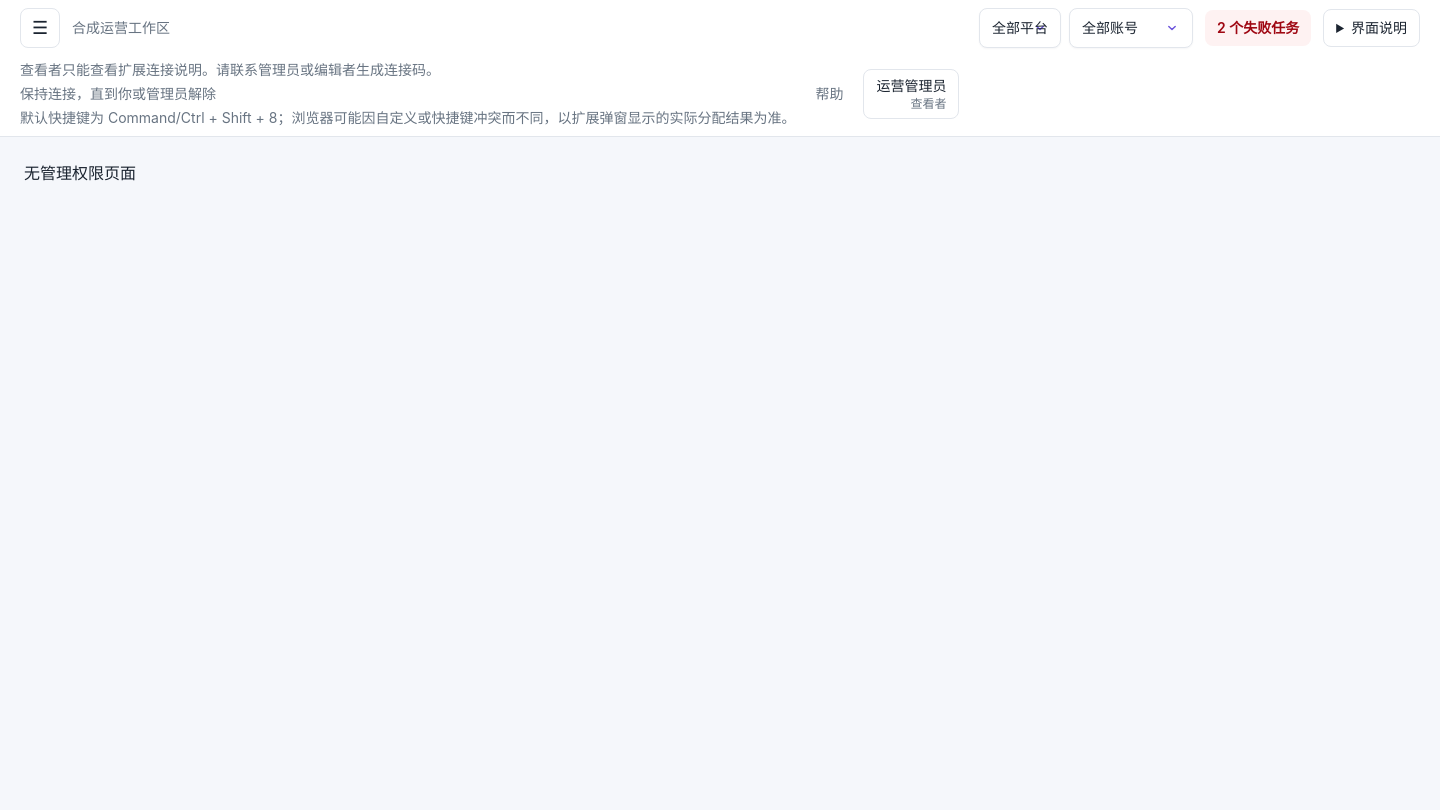
Test: workspace shell behavior › does not open a mobile category that has no viewer-visible children
Click the button named "打开主导航": (40, 28) [20,8,60,48]
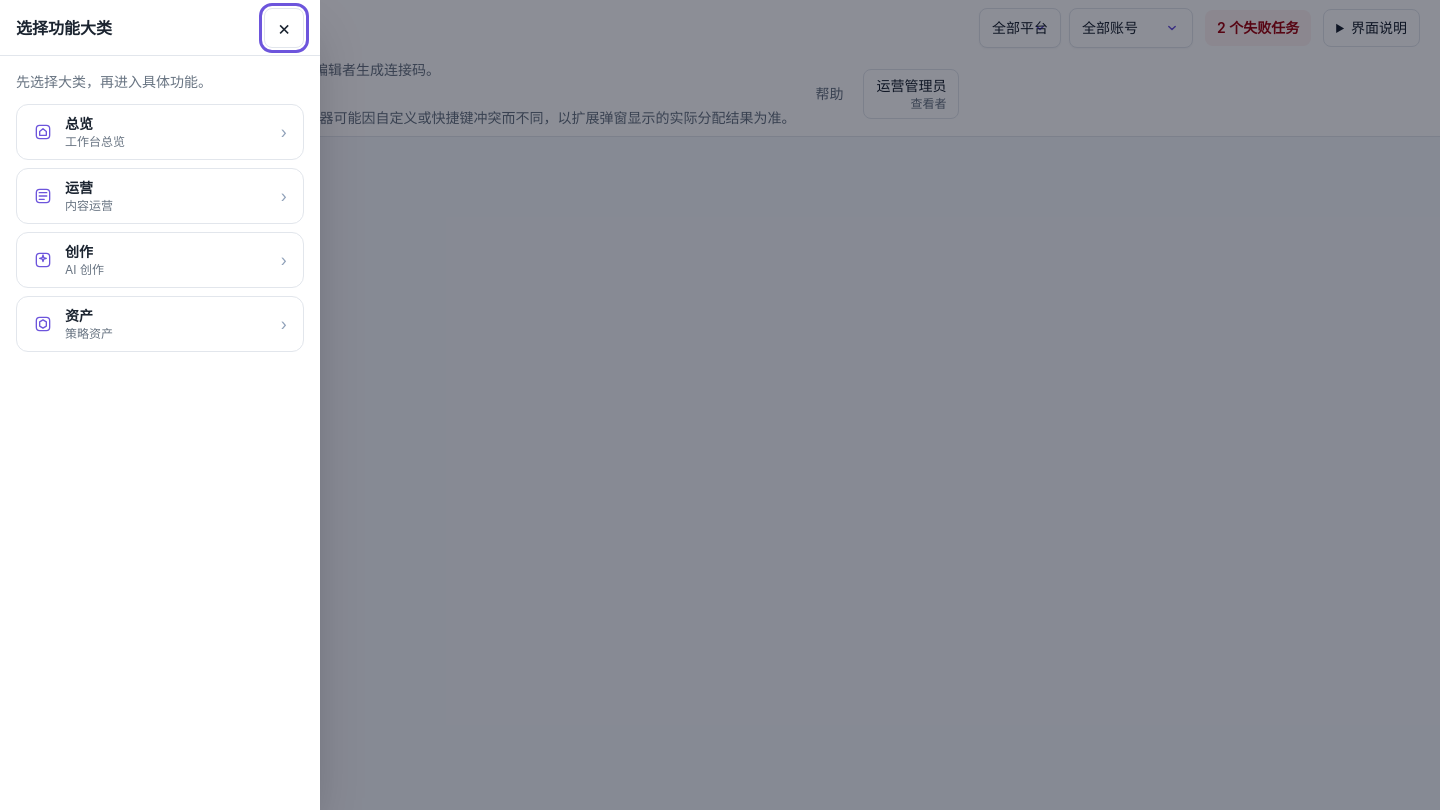
Expected: the navigation bar named "功能大类" is shown, [0,56,320,368]
